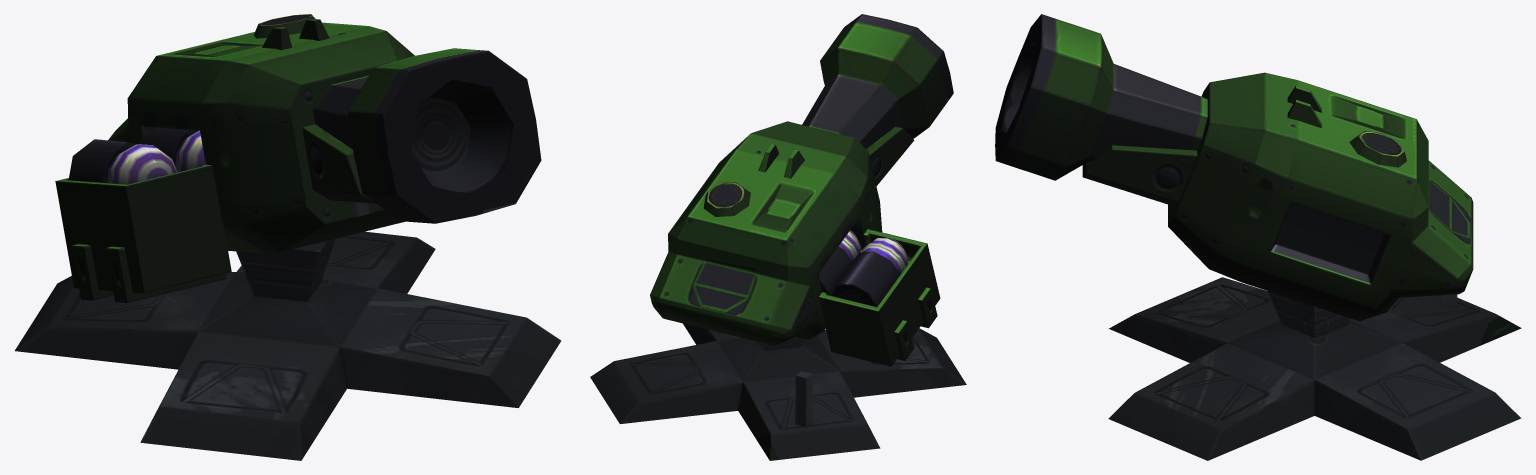
File: Cannon_01.FBX
3 renders of one model, left to right at view 1: azimuth 30°, elevation 25°; view 2: azimuth 150°, elevation 25°; view 3: azimuth 270°, elevation 25°, orthographic. The views are drawn at different scales.
Parts seen in each view (by area): view 1: Turret, Base; view 2: Turret, Base; view 3: Turret, Base.
Part boxes in pixels (x1,y1,x2,y2): Turret: [55, 14, 541, 302]; Base: [15, 231, 561, 460]; Turret: [650, 14, 953, 366]; Base: [590, 323, 966, 460]; Turret: [995, 14, 1473, 321]; Base: [1108, 277, 1521, 460].
Bounding box in the file's own units: 140 × 129 × 179.
